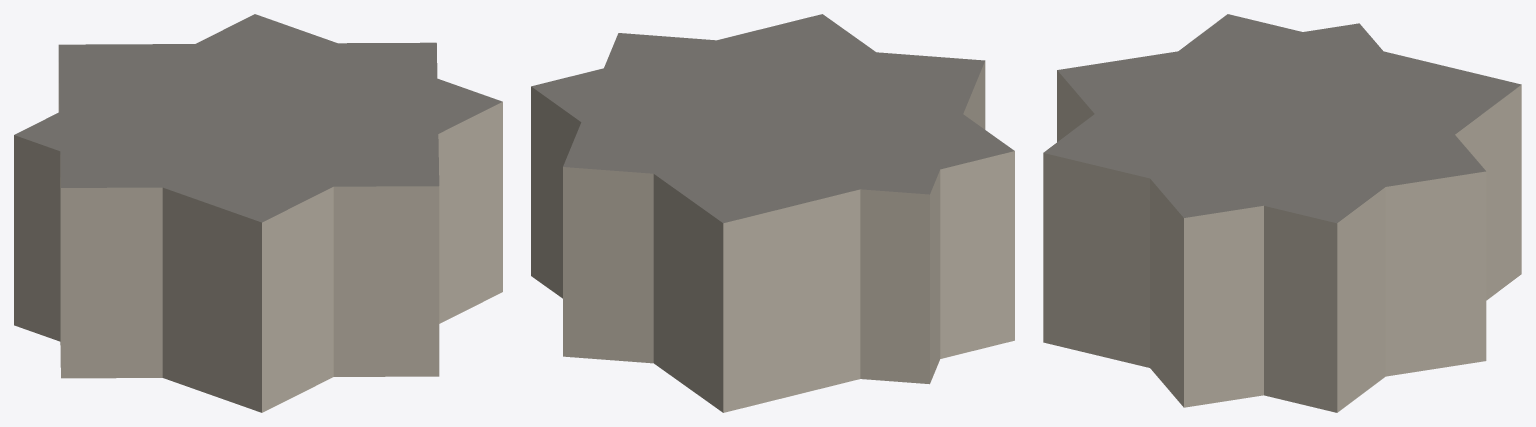
3 renders of one model, left to right at view 1: azimuth 30°, elevation 25°; view 2: azimuth 150°, elevation 25°; view 3: azimuth 270°, elevation 25°, orthographic.
Parts seen in each view (by area): view 1: HP-w372180391; view 2: HP-w372180391; view 3: HP-w372180391.
Boxes of the visible parts, x1=… form: HP-w372180391: x1=14, y1=14, x2=502, y2=412; HP-w372180391: x1=531, y1=14, x2=1014, y2=412; HP-w372180391: x1=1043, y1=14, x2=1521, y2=412.
Size of the model in its own units: 42.62 by 18 by 41.17.
